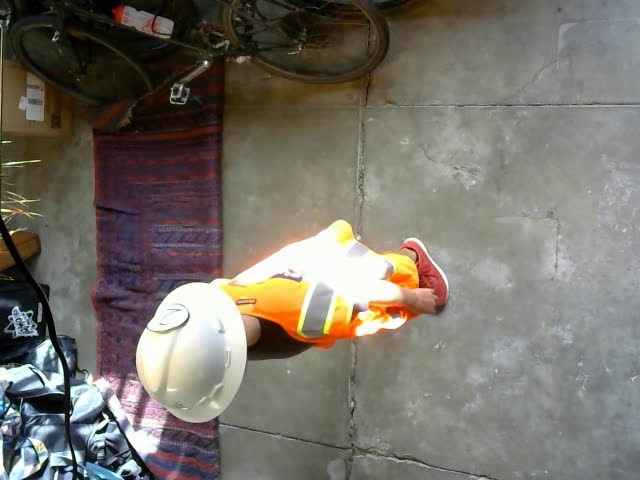two: (148, 302, 188, 331)
